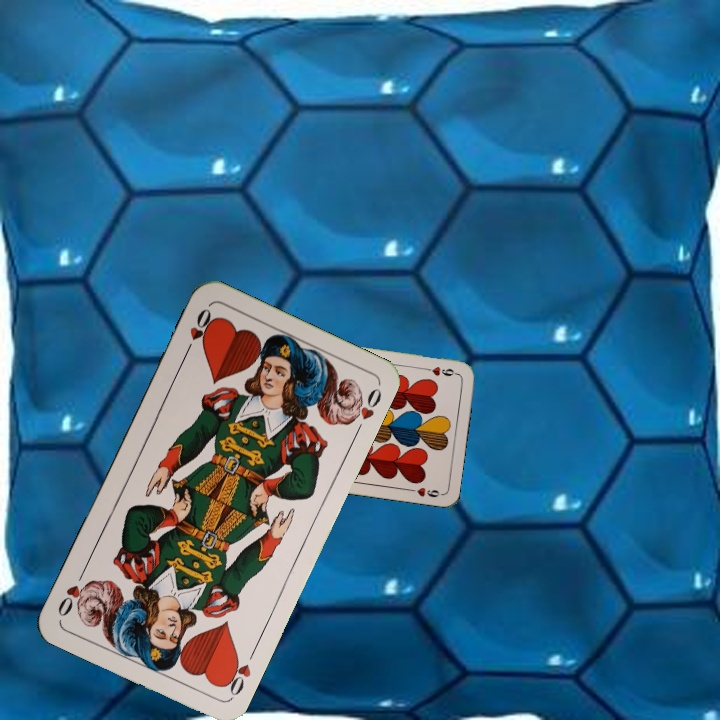H9: (419, 362, 460, 379)
HO: (218, 645, 259, 701), (180, 304, 217, 358)
